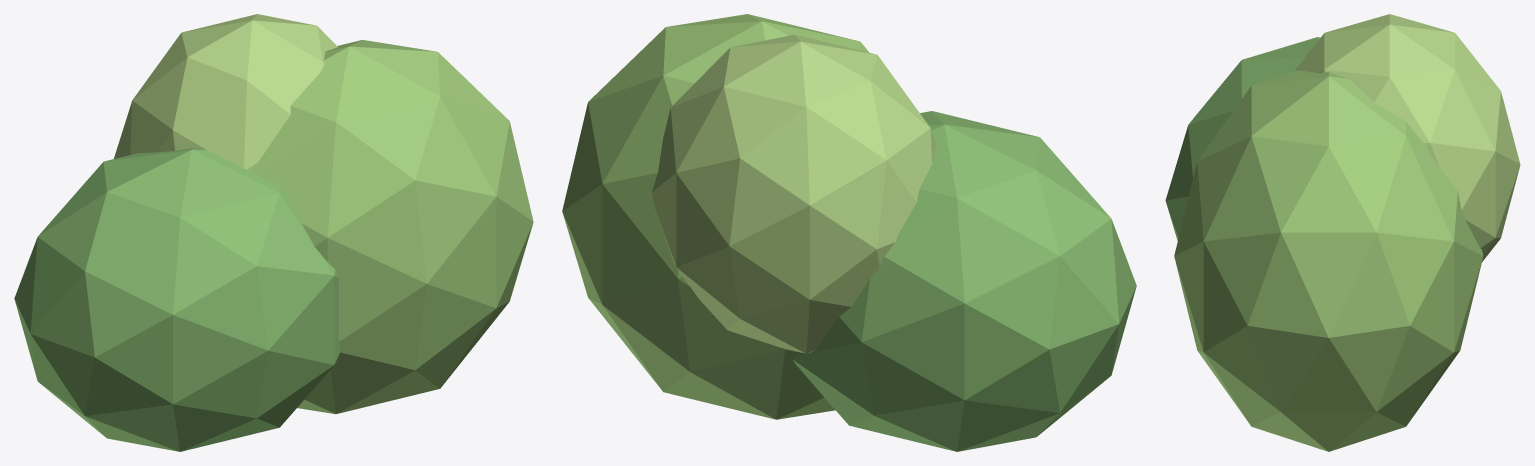
The model's file is shrub.glb.
3 views of the same model, side by side, from view 1: azimuth 30°, elevation 25°; view 2: azimuth 150°, elevation 25°; view 3: azimuth 270°, elevation 25° (orthographic). The views are drawn at different scales.
Parts seen in each view (by area): view 1: shrub_part_0, shrub_part_1, shrub_part_2; view 2: shrub_part_0, shrub_part_2, shrub_part_1; view 3: shrub_part_1, shrub_part_2, shrub_part_0.
Part boxes in pixels (x1,y1,x2,y2): shrub_part_0: [14, 148, 340, 451]; shrub_part_1: [251, 40, 533, 414]; shrub_part_2: [114, 14, 337, 169]; shrub_part_0: [793, 111, 1136, 451]; shrub_part_2: [652, 34, 935, 353]; shrub_part_1: [562, 14, 868, 419]; shrub_part_1: [1174, 70, 1483, 451]; shrub_part_2: [1294, 14, 1520, 261]; shrub_part_0: [1165, 37, 1320, 240].
Bounding box in the file's own units: 2.6 × 1.92 × 1.63.
